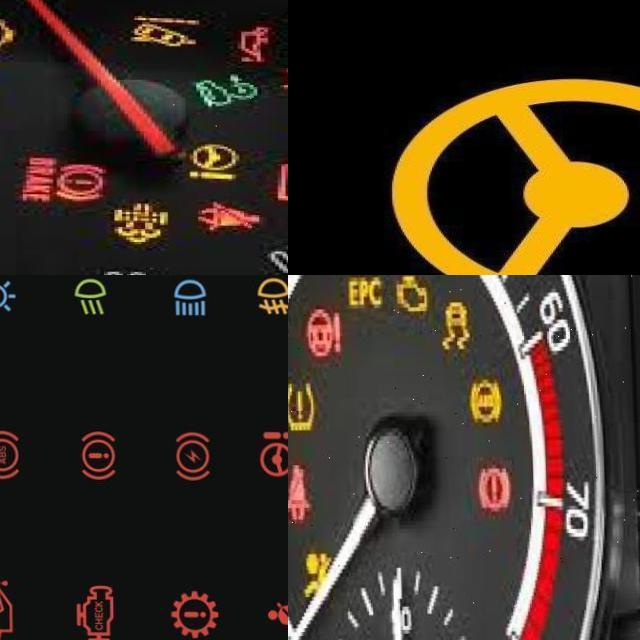Electronic Power Steering: (387, 73, 640, 275), (258, 428, 288, 481)
Electronic Power Steering Warning: (186, 140, 240, 180), (303, 309, 343, 359)
Seat Belt: (199, 198, 263, 237), (288, 463, 308, 521), (258, 597, 288, 635)
